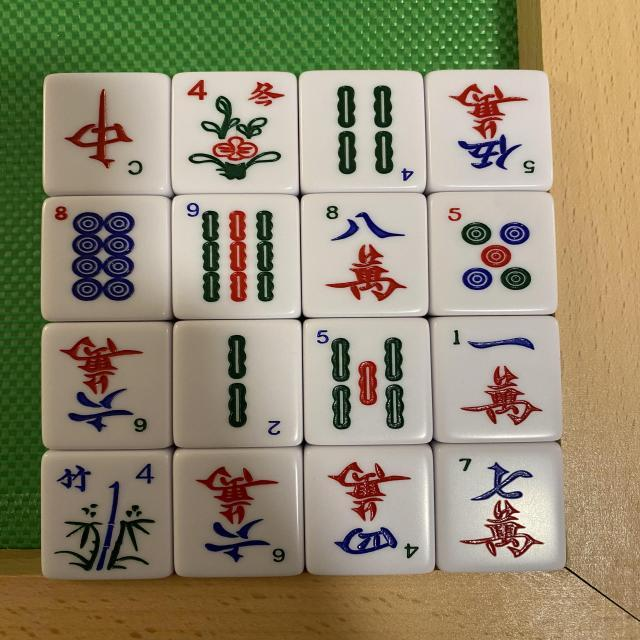bf4: (42, 451, 170, 582)
bs4: (177, 74, 296, 189)
hdr: (44, 77, 168, 194)
sb2: (174, 321, 304, 452)
sb4: (300, 73, 426, 190)
sb5: (305, 320, 430, 446)
sb9: (174, 196, 298, 322)
sc1: (432, 314, 559, 439)
sc4: (303, 447, 433, 577)
sc5: (431, 72, 554, 192)
sc6: (177, 447, 306, 578), (46, 322, 170, 447)
sc7: (436, 441, 564, 573)
sc8: (303, 194, 425, 314)
sd5: (432, 191, 556, 310)
sd8: (44, 200, 169, 323)
